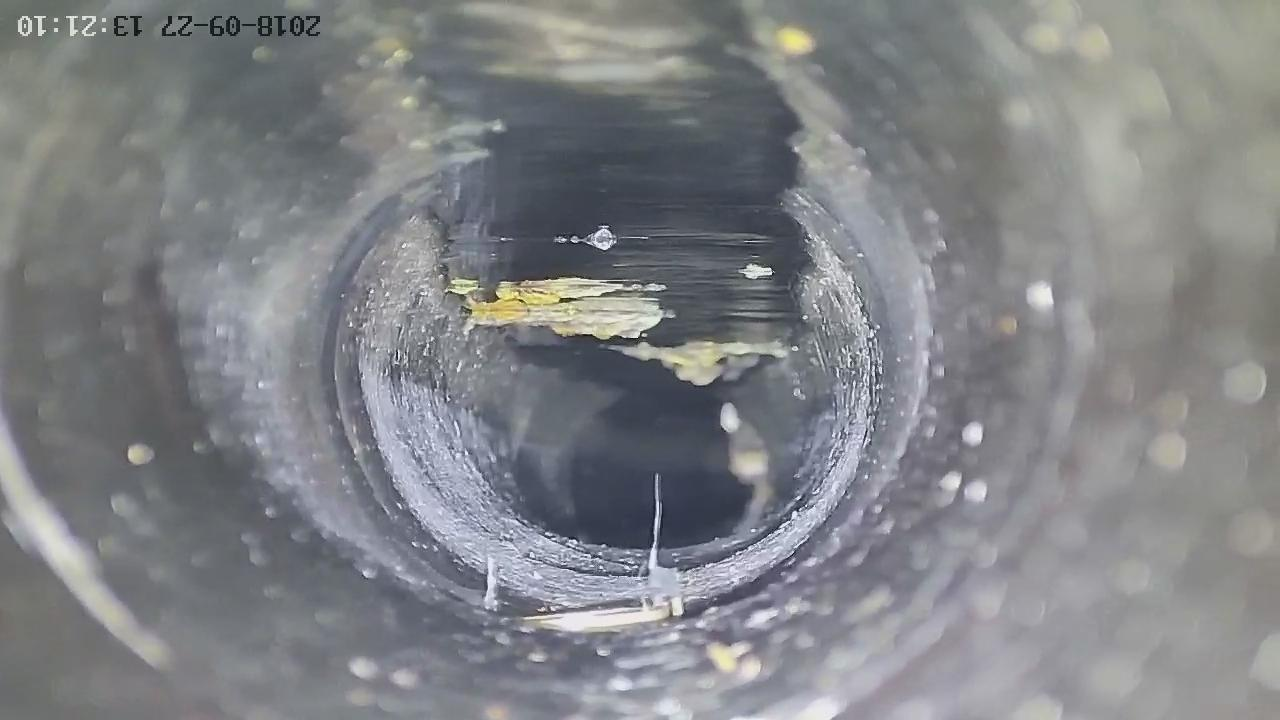ZGAJ: (522, 599, 682, 632)
